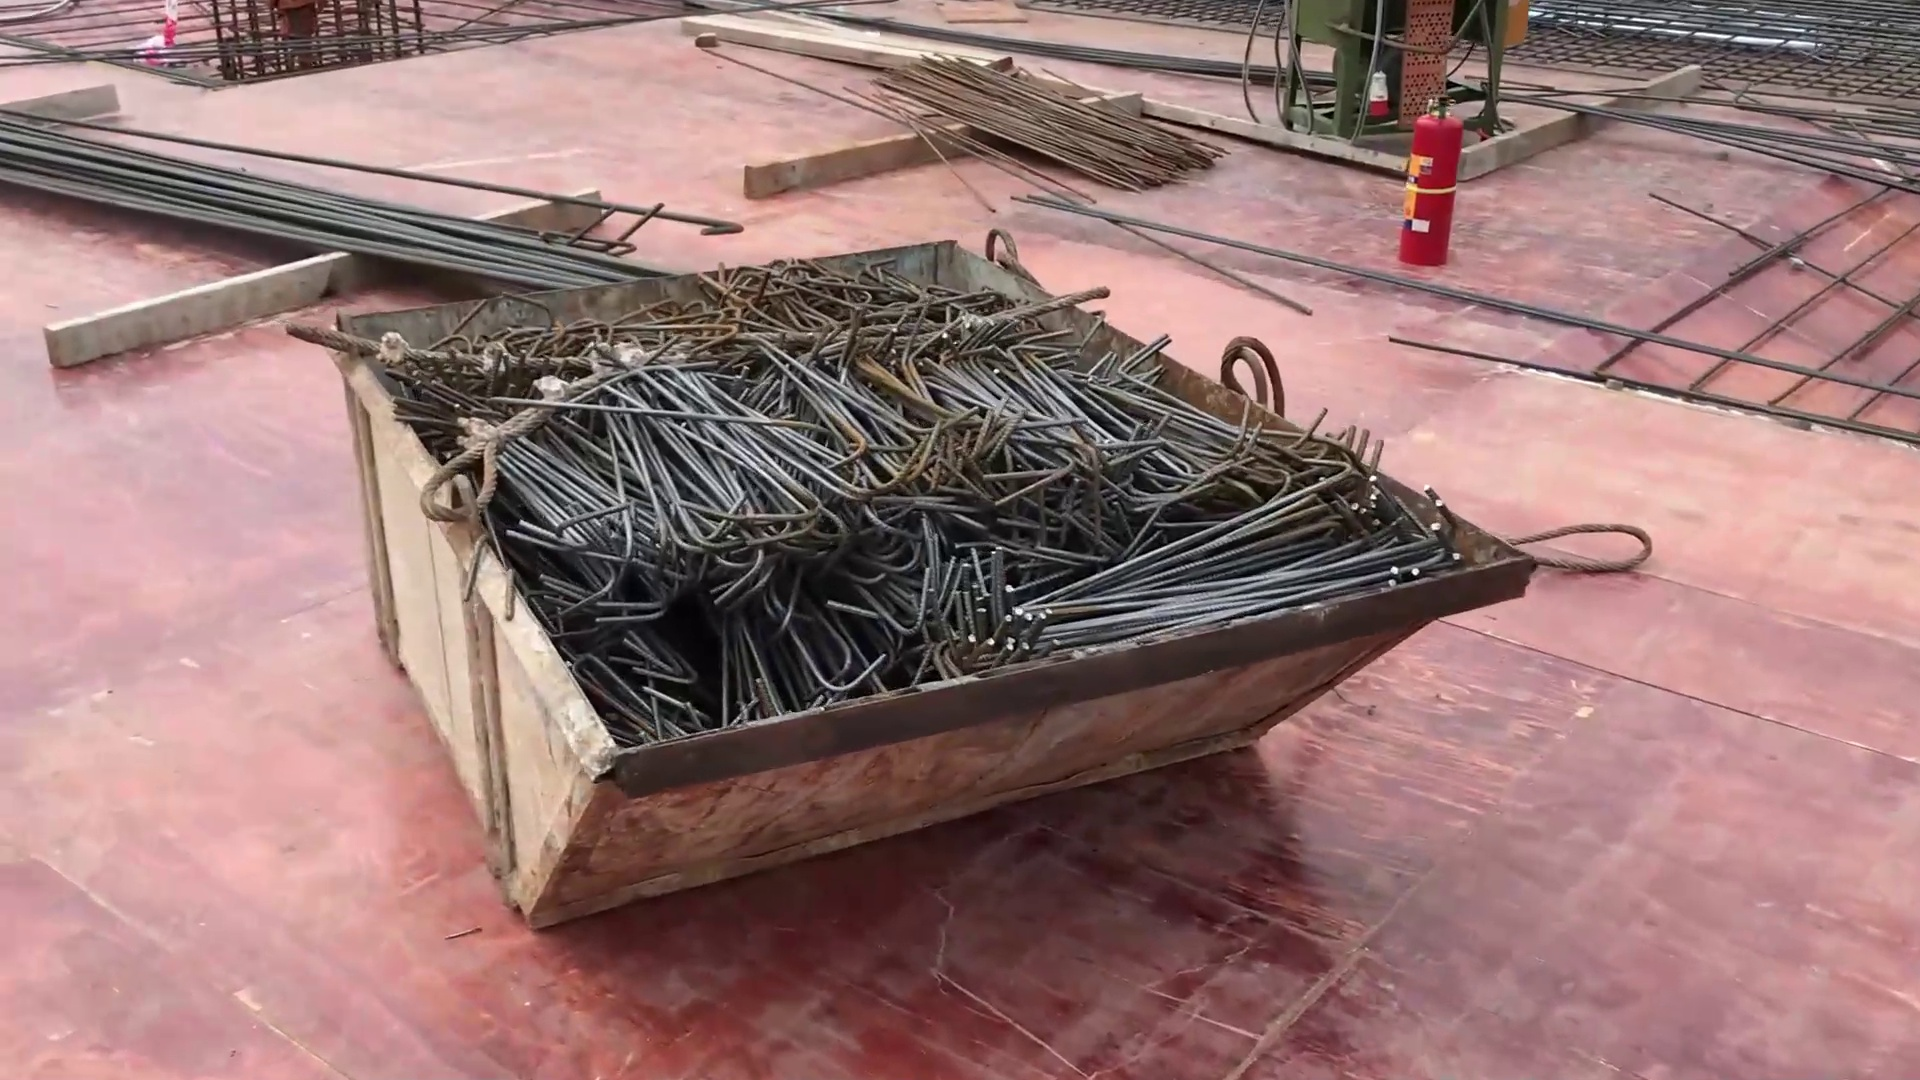hopper: (328, 190, 1536, 890)
rebar: (7, 88, 659, 287), (865, 20, 1244, 194)
